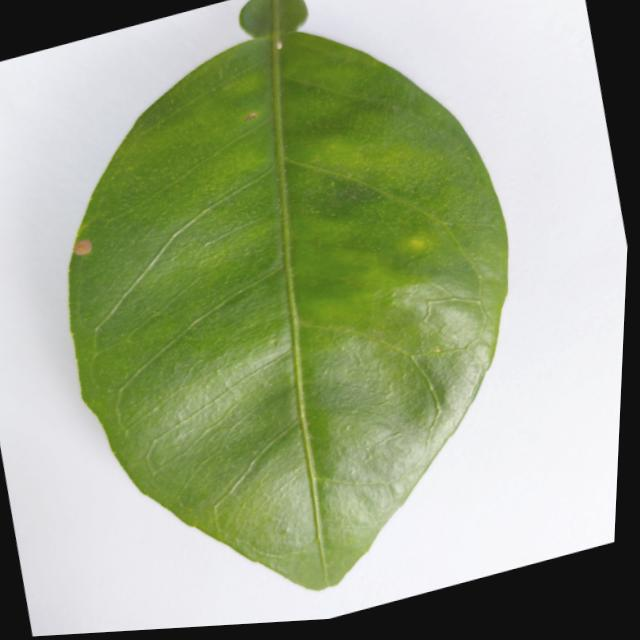greening: (69, 0, 507, 588)
